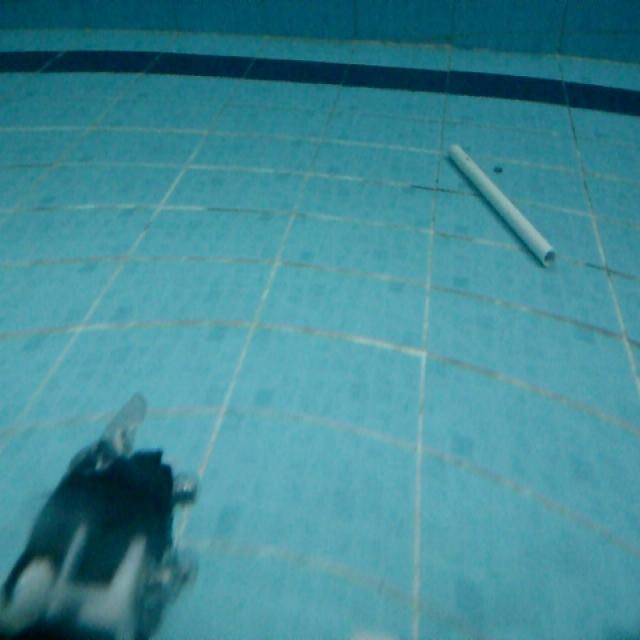Cube: (445, 136, 559, 271)
